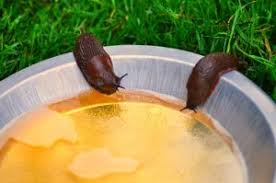slug: (68, 32, 127, 94), (182, 54, 239, 109)
